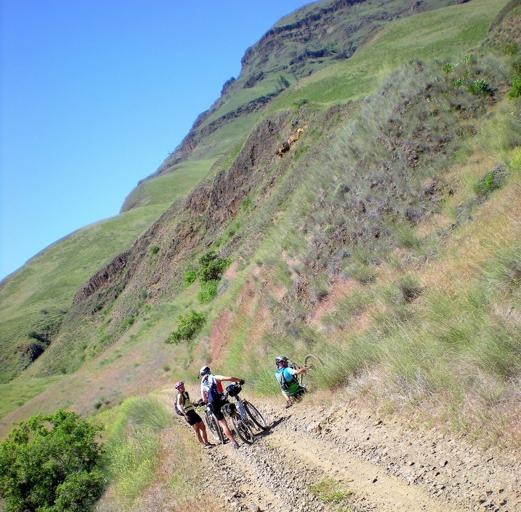non-vehicle: (222, 381, 267, 445), (193, 399, 222, 445), (285, 355, 323, 384)
